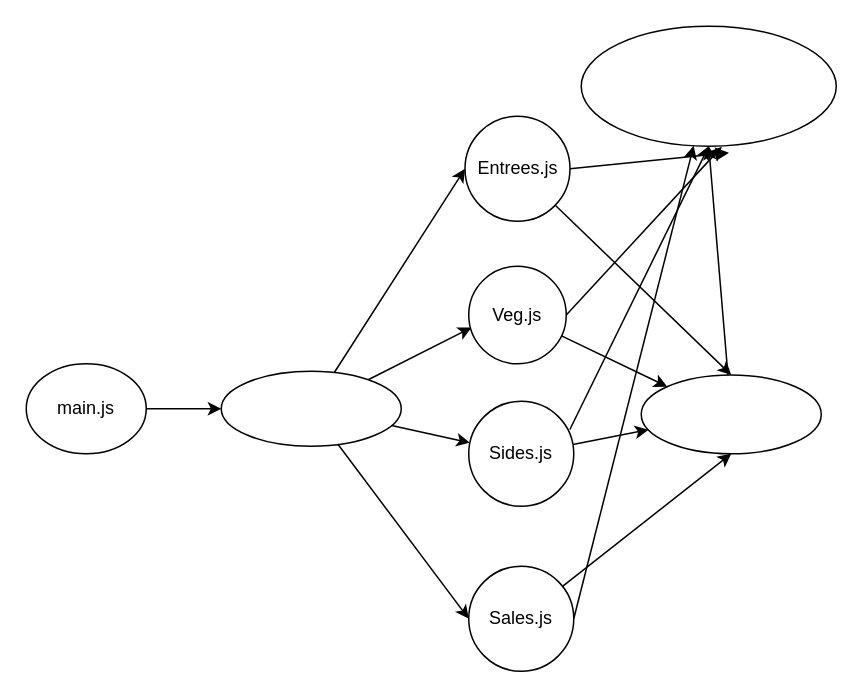
This 863x698 diagram has some shape labels left out. Each missing label, with the centre of its shape:
"database.json" belongs at (708,85).
"FoodTruck.js" belongs at (310,408).
"TransientState.js" belongs at (730,414).
